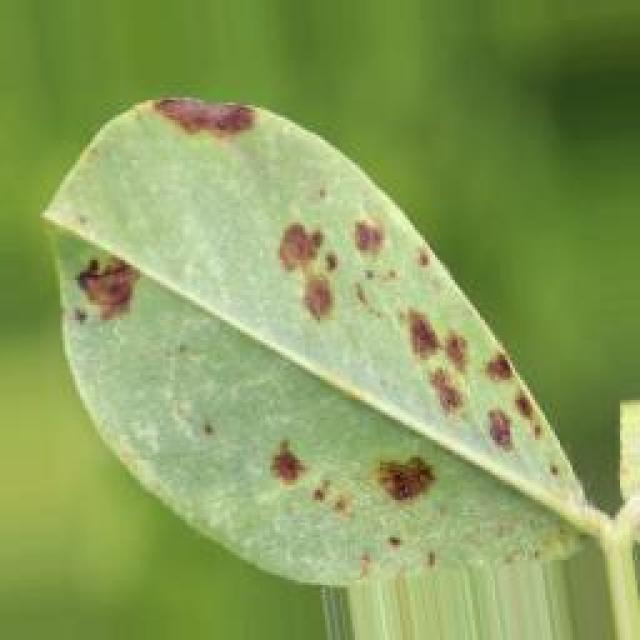Whitefly: (62, 56, 567, 586)
